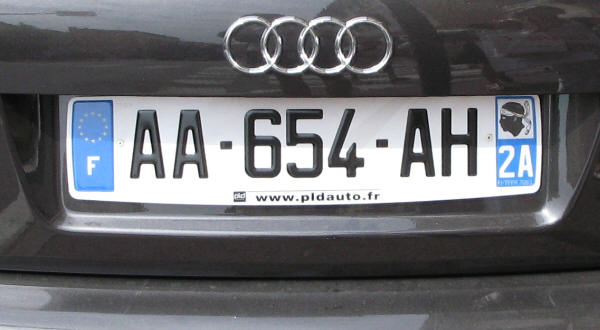license_plate: (65, 96, 542, 196)
